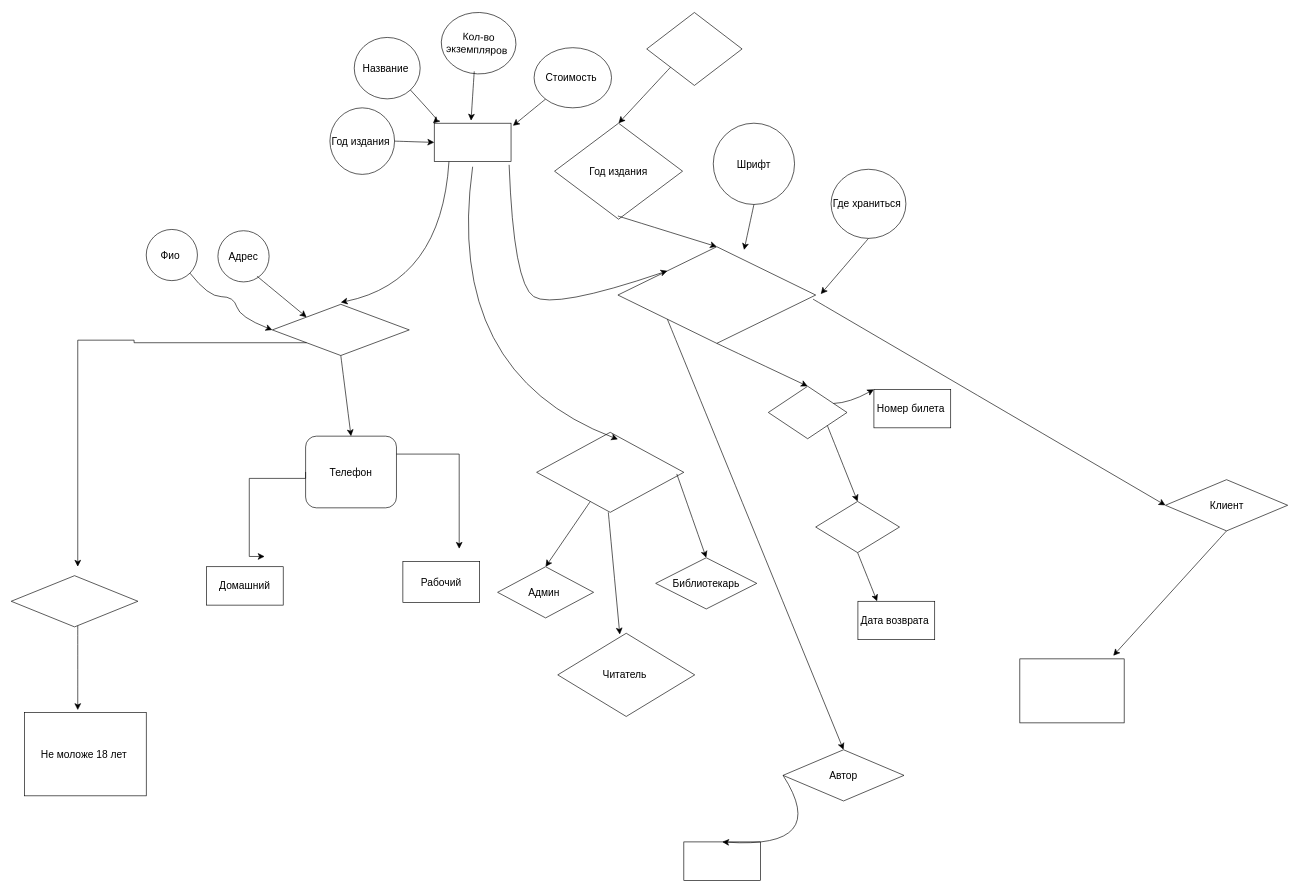
The diagram is 1299 pixels wide and 892 high, and some of its shapes have lost their labels. The centre of each missing label's shape, as x and y in pixels:
"Библиотека" goes at point 610,472.
"Вкладыш" goes at point 807,412.
"Возраст" goes at point 74,601.
"Дата сдачи" goes at point 857,527.
"Клиенты" goes at point 340,330.
"Книга" goes at point 472,142.
"Начиная с 1960 года" goes at point 694,48.
"Не более 5 книг в руки" goes at point 1071,690.
"Не обяз. Фио" goes at point 722,860.
"Экземпляр" goes at point 716,294.
